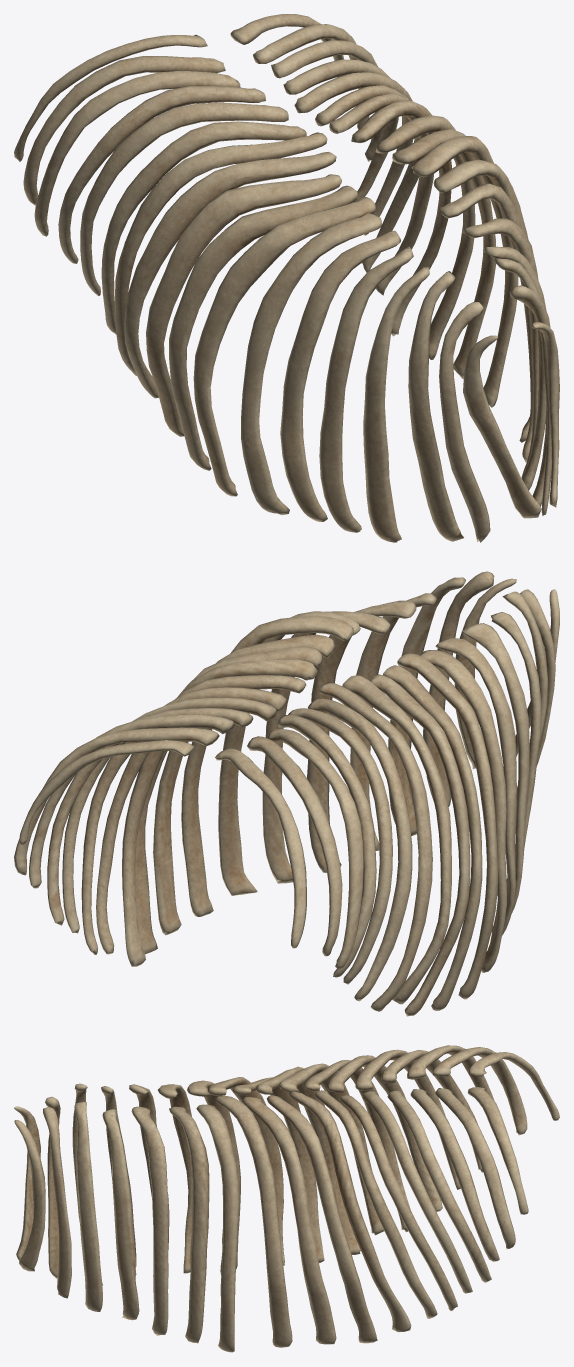
The model's file is Ribs.glb.
3 renders of one model, top to bottom at view 1: azimuth 30°, elevation 25°; view 2: azimuth 150°, elevation 25°; view 3: azimuth 270°, elevation 25°, orthographic. The views are drawn at different scales.
Visible parts, largest first — view 1: Ribs_low; view 2: Ribs_low; view 3: Ribs_low.
Part boxes in pixels (x1,y1,x2,y2): Ribs_low: (14, 14, 559, 542); Ribs_low: (14, 571, 559, 1016); Ribs_low: (14, 1045, 559, 1352).
Size of the model in its own units: 0.4791 by 0.4435 by 0.9097.
1 material, 1 textured.
